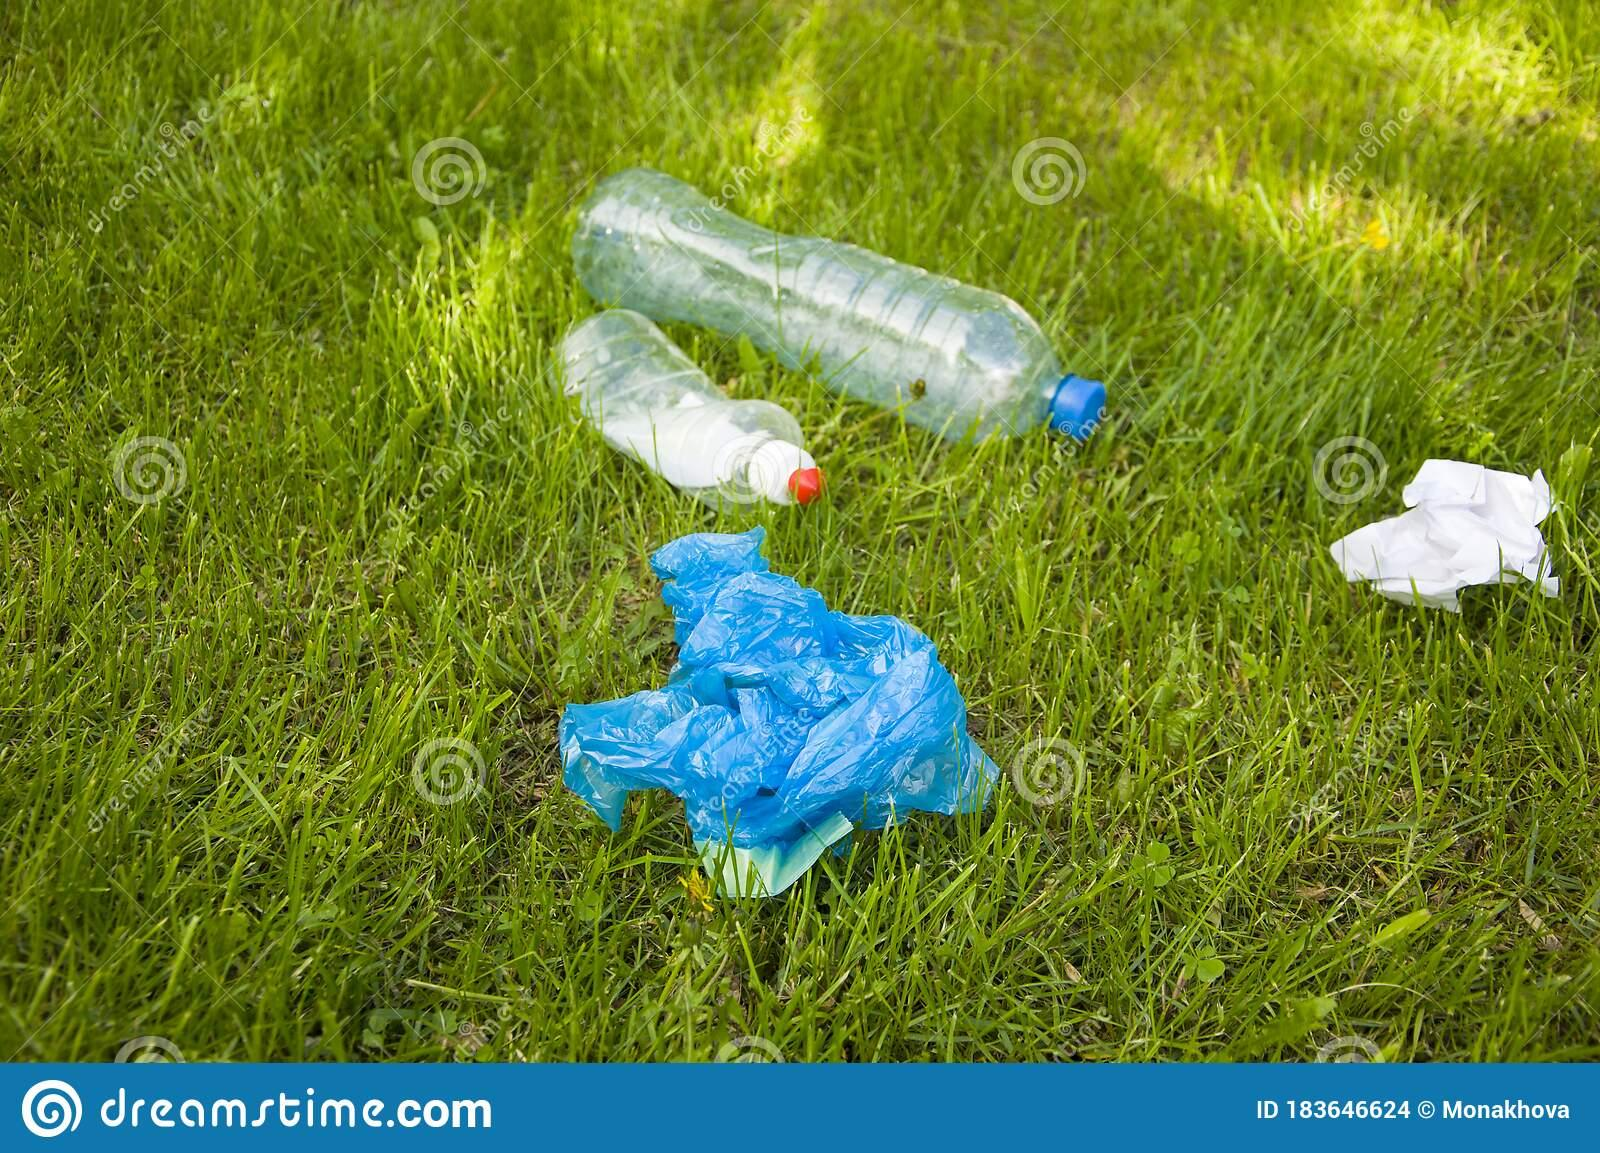bottle: (525, 43, 1098, 139), (694, 422, 699, 431)
